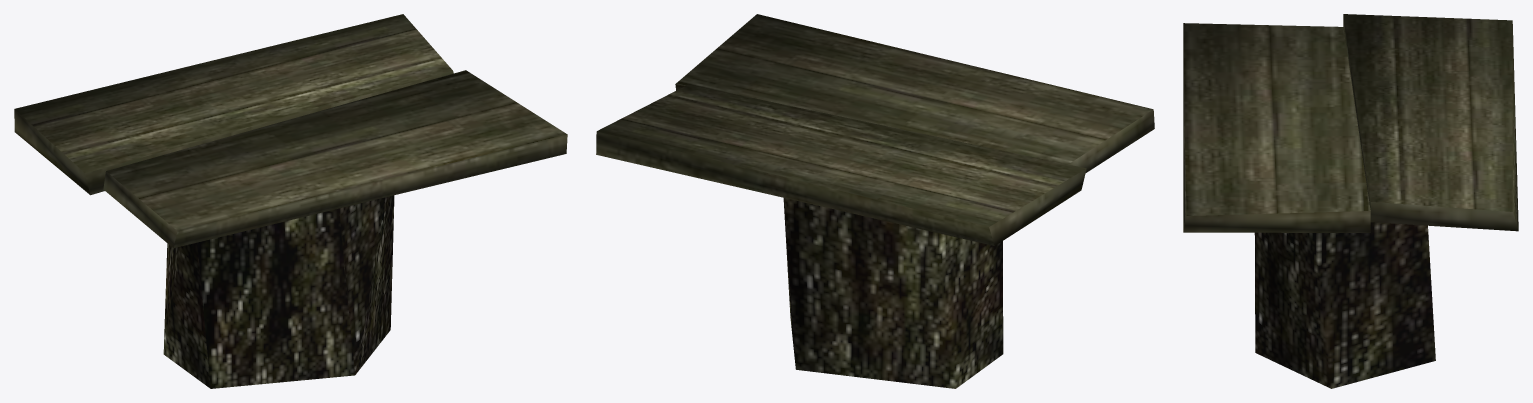
File: PC_LOB_TABLE1.glb
3 renders of one model, left to right at view 1: azimuth 30°, elevation 25°; view 2: azimuth 150°, elevation 25°; view 3: azimuth 270°, elevation 25°, orthographic.
Parts seen in each view (by area): view 1: Mesh; view 2: Mesh; view 3: Mesh.
Boxes of the visible parts, bbox=[...] form: Mesh: bbox=[14, 14, 567, 388]; Mesh: bbox=[596, 14, 1154, 388]; Mesh: bbox=[1183, 14, 1518, 388].
Size of the model in its own units: 1.56 by 0.83 by 1.11.
Materials: 2 (2 with a texture image).
